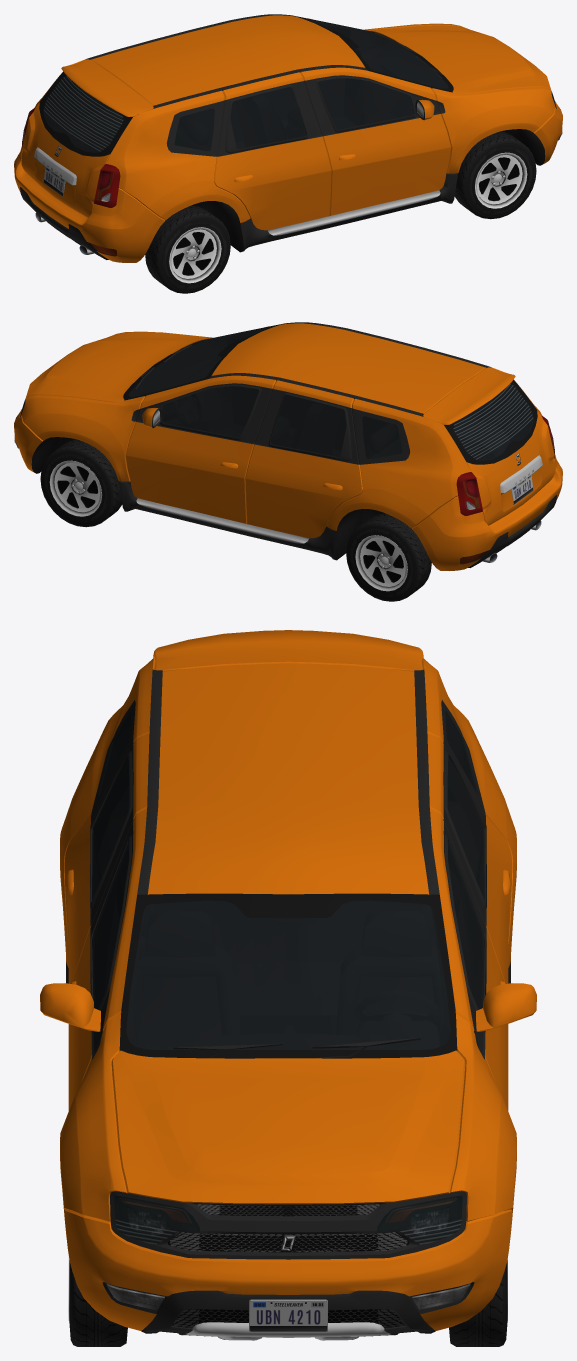
The model's file is urban_10.glb.
3 views of the same model, one above another, from view 1: azimuth 30°, elevation 25°; view 2: azimuth 150°, elevation 25°; view 3: azimuth 270°, elevation 25° (orthographic). The views are drawn at different scales.
Visible parts, largest first — view 1: Urban10_body_Urban10_bodymat_0, Urban10_Bottom_UCB_BOTTOM_LT_0, Urban10_Interior_UCB_Interiors_2_0, Urban10_WheelStock_RR_RB1c_Tire_1k_0, Urban10_WheelStock_FR_RB1c_Tire_1k_0, Urban10_Bumper_Rear_Urban10_bodymat_0, Urban10_Body_Glass_UCB_Lights_and_Glass_Transperent_0, Urban10_Glass_Rear_UCB_Lights_and_Glass_Transperent_0, Urban10_Glass_Passenger_UCB_Lights_and_Glass_Transperent_0, Urban10_Windshield_UCB_Lights_and_Glass_Transperent_0, Urban10_Taillights_Glass_UCB_Lights_and_Glass_Transperent_0, Urban10_Bumper_Rear_Inner_UCB_BOTTOM_LT_0 (+2 smaller); view 2: Urban10_body_Urban10_bodymat_0, Urban10_Bottom_UCB_BOTTOM_LT_0, Urban10_Interior_UCB_Interiors_2_0, Urban10_WheelStock_RL_RB1c_Tire_1k_0, Urban10_WheelStock_FL_RB1c_Tire_1k_0, Urban10_Bumper_Rear_Urban10_bodymat_0, Urban10_Body_Glass_UCB_Lights_and_Glass_Transperent_0, Urban10_Glass_Rear_UCB_Lights_and_Glass_Transperent_0, Urban10_Glass_Driver_UCB_Lights_and_Glass_Transperent_0, Urban10_Windshield_UCB_Lights_and_Glass_Transperent_0, Urban10_Taillights_Glass_UCB_Lights_and_Glass_Transperent_0, Urban10_Bumper_Rear_Inner_UCB_BOTTOM_LT_0 (+3 smaller); view 3: Urban10_body_Urban10_bodymat_0, Urban10_Interior_UCB_Interiors_2_0, Urban10_Windshield_UCB_Lights_and_Glass_Transperent_0, Urban10_Bottom_UCB_BOTTOM_LT_0, Urban10_Bumper_Front_Urban10_bodymat_0, Urban10_Bumper_Front_Inner_UCB_BOTTOM_LT_0, Urban10_Body_Glass_UCB_Lights_and_Glass_Transperent_0, Urban10_Headlight_Glass_UCB_Lights_and_Glass_Transperent_0, Urban10_Glass_Passenger_UCB_Lights_and_Glass_Transperent_0, Urban10_Glass_Driver_UCB_Lights_and_Glass_Transperent_0, Urban10_Numberplate_Front_Numberplates_Misk_U_0, Urban10_WheelStock_FR_RB1c_Tire_1k_0 (+4 smaller).
Boxes of the visible parts, left/top/right/bottom form: Urban10_body_Urban10_bodymat_0: left=21, top=15, right=555, bottom=239; Urban10_Bottom_UCB_BOTTOM_LT_0: left=31, top=14, right=556, bottom=254; Urban10_Interior_UCB_Interiors_2_0: left=45, top=19, right=447, bottom=151; Urban10_WheelStock_RR_RB1c_Tire_1k_0: left=145, top=205, right=230, bottom=293; Urban10_WheelStock_FR_RB1c_Tire_1k_0: left=454, top=131, right=536, bottom=219; Urban10_Bumper_Rear_Urban10_bodymat_0: left=14, top=146, right=165, bottom=262; Urban10_Body_Glass_UCB_Lights_and_Glass_Transperent_0: left=174, top=87, right=306, bottom=151; Urban10_Glass_Rear_UCB_Lights_and_Glass_Transperent_0: left=43, top=76, right=123, bottom=152; Urban10_Glass_Passenger_UCB_Lights_and_Glass_Transperent_0: left=318, top=78, right=414, bottom=129; Urban10_Windshield_UCB_Lights_and_Glass_Transperent_0: left=301, top=17, right=448, bottom=88; Urban10_Taillights_Glass_UCB_Lights_and_Glass_Transperent_0: left=22, top=108, right=120, bottom=207; Urban10_Bumper_Rear_Inner_UCB_BOTTOM_LT_0: left=20, top=187, right=116, bottom=259; Urban10_body_Urban10_bodymat_0: left=21, top=323, right=555, bottom=547; Urban10_Bottom_UCB_BOTTOM_LT_0: left=20, top=322, right=545, bottom=562; Urban10_Interior_UCB_Interiors_2_0: left=129, top=327, right=531, bottom=459; Urban10_WheelStock_RL_RB1c_Tire_1k_0: left=346, top=513, right=431, bottom=601; Urban10_WheelStock_FL_RB1c_Tire_1k_0: left=40, top=439, right=122, bottom=527; Urban10_Bumper_Rear_Urban10_bodymat_0: left=411, top=454, right=562, bottom=570; Urban10_Body_Glass_UCB_Lights_and_Glass_Transperent_0: left=270, top=395, right=402, bottom=459; Urban10_Glass_Rear_UCB_Lights_and_Glass_Transperent_0: left=453, top=384, right=533, bottom=460; Urban10_Glass_Driver_UCB_Lights_and_Glass_Transperent_0: left=162, top=386, right=258, bottom=437; Urban10_Windshield_UCB_Lights_and_Glass_Transperent_0: left=128, top=325, right=275, bottom=396; Urban10_Taillights_Glass_UCB_Lights_and_Glass_Transperent_0: left=456, top=416, right=554, bottom=515; Urban10_Bumper_Rear_Inner_UCB_BOTTOM_LT_0: left=460, top=495, right=556, bottom=567; Urban10_body_Urban10_bodymat_0: left=40, top=630, right=536, bottom=1221; Urban10_Interior_UCB_Interiors_2_0: left=94, top=715, right=482, bottom=1049; Urban10_Windshield_UCB_Lights_and_Glass_Transperent_0: left=126, top=900, right=450, bottom=1049; Urban10_Bottom_UCB_BOTTOM_LT_0: left=64, top=669, right=512, bottom=1259; Urban10_Bumper_Front_Urban10_bodymat_0: left=64, top=1209, right=512, bottom=1330; Urban10_Bumper_Front_Inner_UCB_BOTTOM_LT_0: left=102, top=1282, right=474, bottom=1340; Urban10_Body_Glass_UCB_Lights_and_Glass_Transperent_0: left=92, top=710, right=484, bottom=900; Urban10_Headlight_Glass_UCB_Lights_and_Glass_Transperent_0: left=114, top=1195, right=462, bottom=1245; Urban10_Glass_Passenger_UCB_Lights_and_Glass_Transperent_0: left=92, top=840, right=129, bottom=1009; Urban10_Glass_Driver_UCB_Lights_and_Glass_Transperent_0: left=447, top=840, right=484, bottom=1009; Urban10_Numberplate_Front_Numberplates_Misk_U_0: left=249, top=1299, right=327, bottom=1331; Urban10_WheelStock_FR_RB1c_Tire_1k_0: left=68, top=1256, right=127, bottom=1346.
Bounding box in the file's own units: 4.29 × 1.52 × 1.88.
8 materials, 7 textured.
